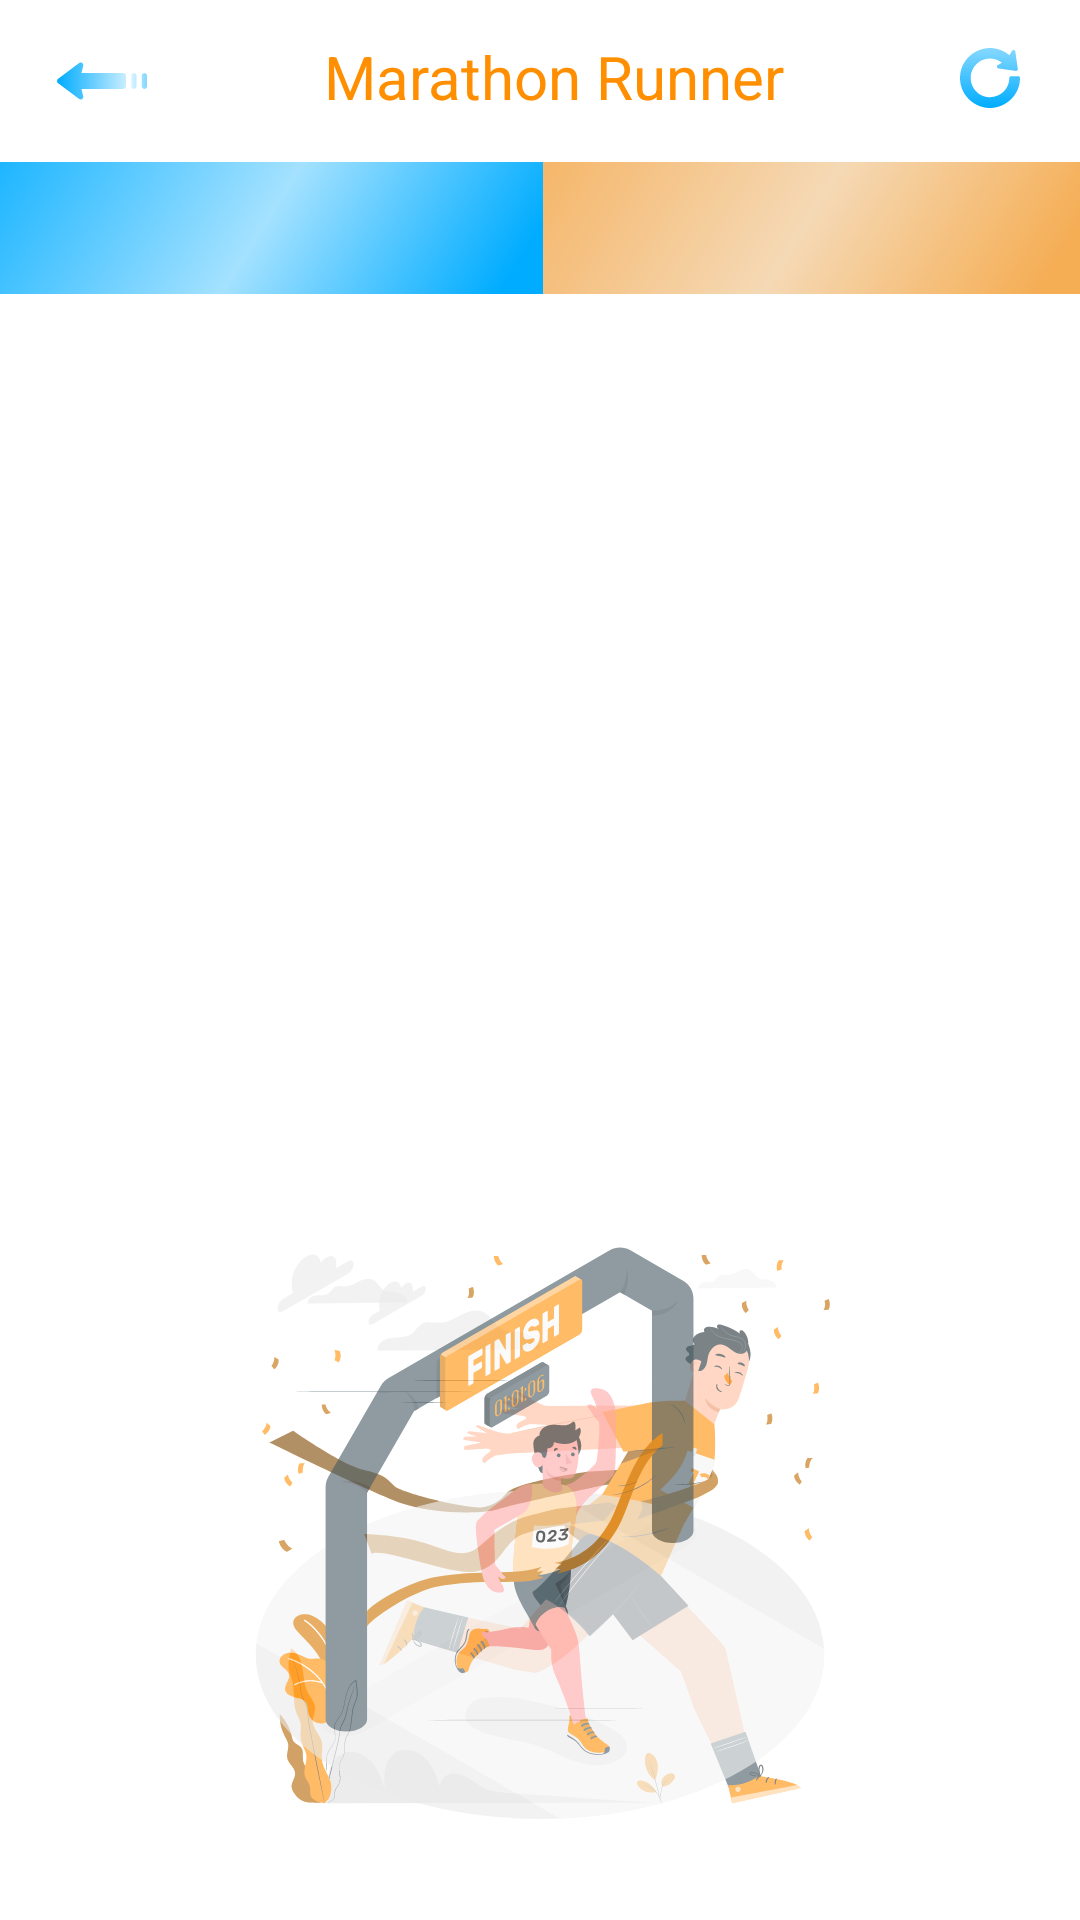

Icon click points for this 1080x1920 phone screenshot, format point (x, y):
arrow: point (102, 81)
refresh: point (990, 78)
